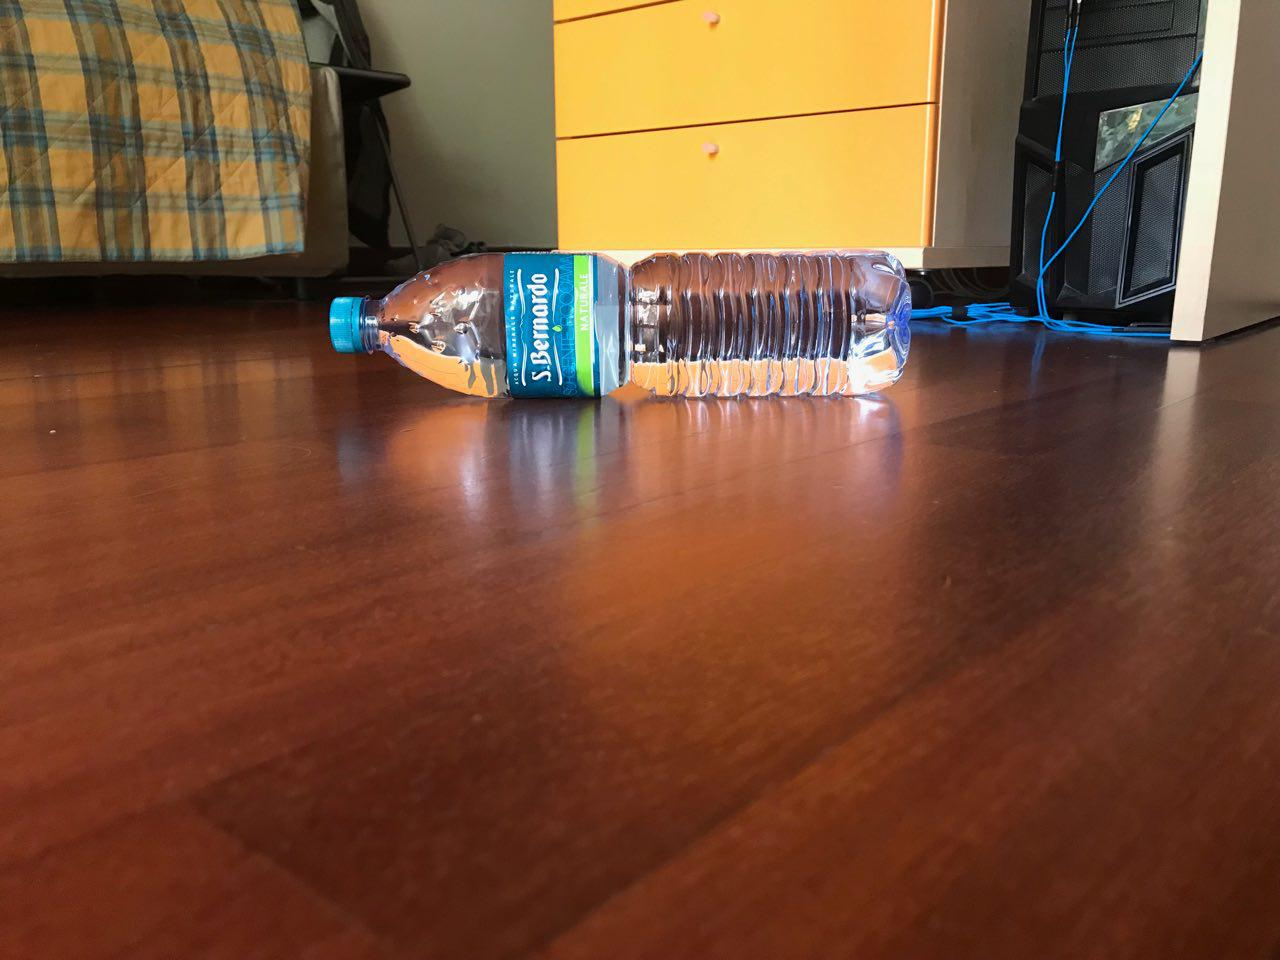san_bernardo: (326, 246, 913, 401)
